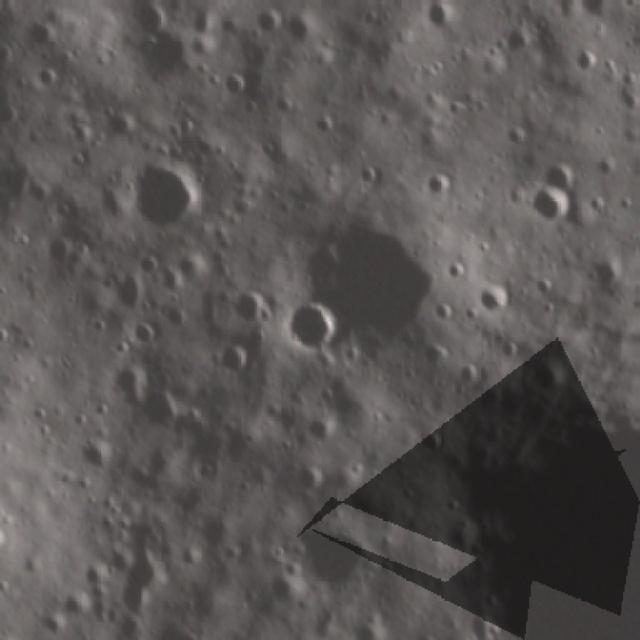crater: (437, 414, 640, 640), (293, 212, 469, 345), (112, 538, 200, 618), (129, 156, 214, 236), (302, 513, 371, 593), (287, 299, 345, 356), (135, 386, 190, 434), (223, 279, 275, 327), (528, 184, 575, 228), (211, 341, 258, 382), (111, 354, 152, 400), (472, 276, 517, 316), (528, 359, 574, 396), (79, 432, 121, 470), (109, 274, 149, 311), (302, 406, 342, 442), (282, 10, 323, 45), (294, 456, 326, 498), (100, 108, 142, 140), (537, 163, 580, 194), (250, 3, 287, 35), (416, 170, 453, 199), (500, 28, 535, 58), (123, 320, 159, 349), (426, 0, 460, 28), (573, 44, 604, 71), (162, 266, 190, 294), (33, 64, 61, 91), (225, 68, 247, 97), (360, 165, 385, 190), (0, 526, 14, 556)
